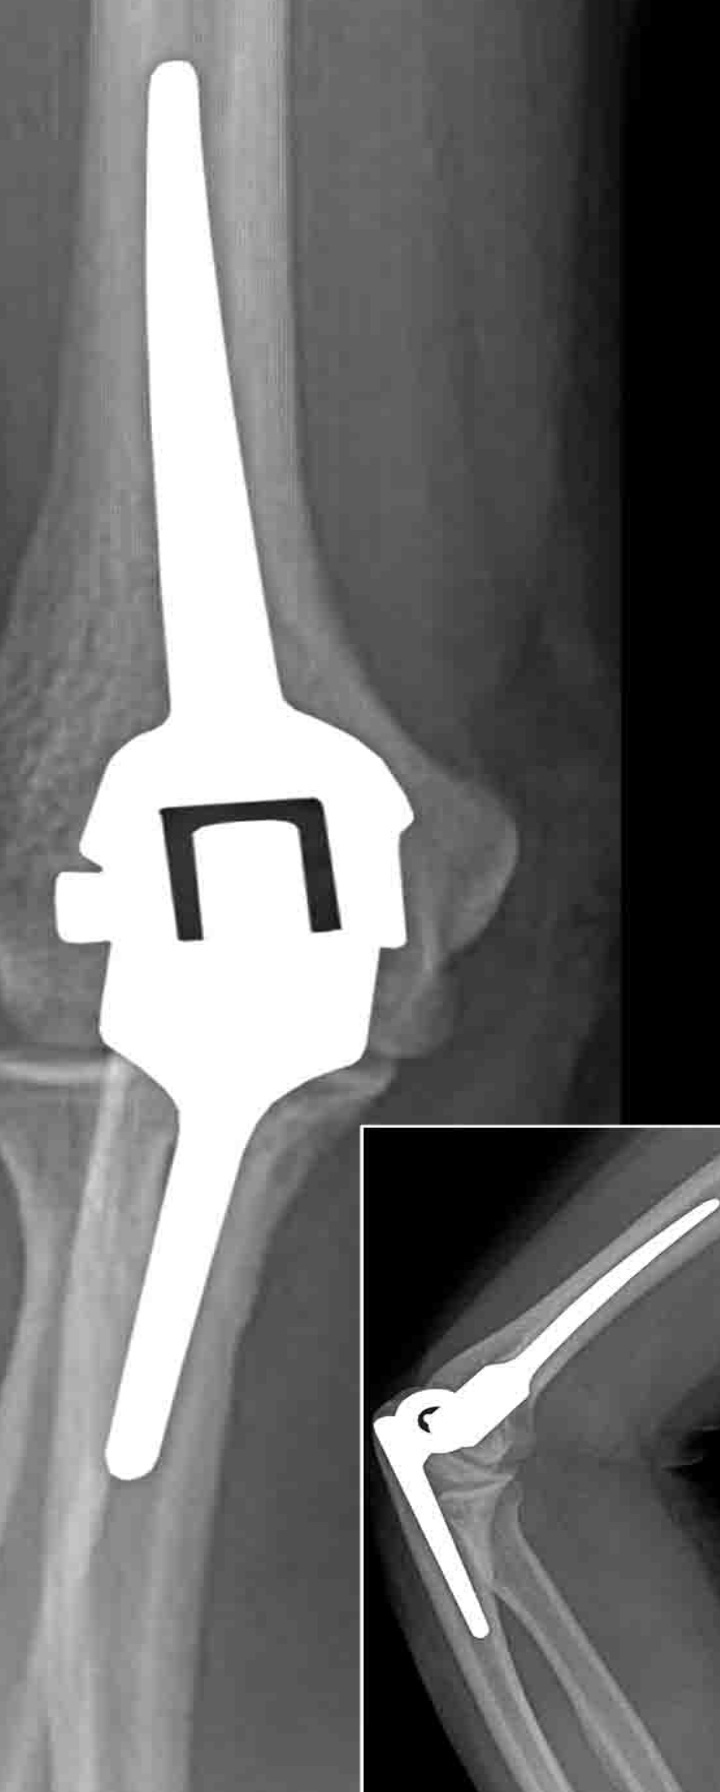Elbow - Osteonics - Stryker: (37, 53, 424, 1370), (365, 1157, 720, 1654)
